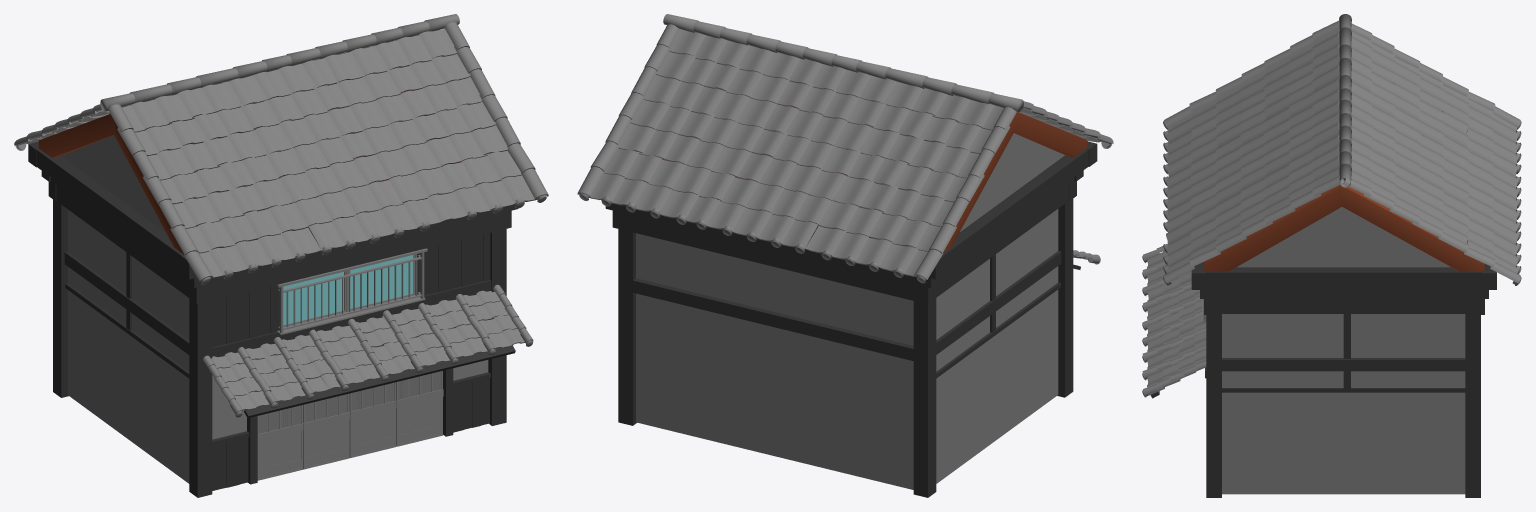
Rendered from SM_restaurant_traditional_building.fbx.
The picture shows the model from 3 angles, left to right: view 1: azimuth 30°, elevation 25°; view 2: azimuth 150°, elevation 25°; view 3: azimuth 270°, elevation 25°; orthographic projection. The views are drawn at different scales.
Parts seen in each view (by area): view 1: Object32515; view 2: Object32515; view 3: Object32515.
Boxes of the visible parts, bbox=[...] form: Object32515: bbox=[14, 14, 548, 497]; Object32515: bbox=[577, 14, 1113, 497]; Object32515: bbox=[1142, 14, 1521, 497].
Bounding box in the file's own units: 334 × 316 × 328.
